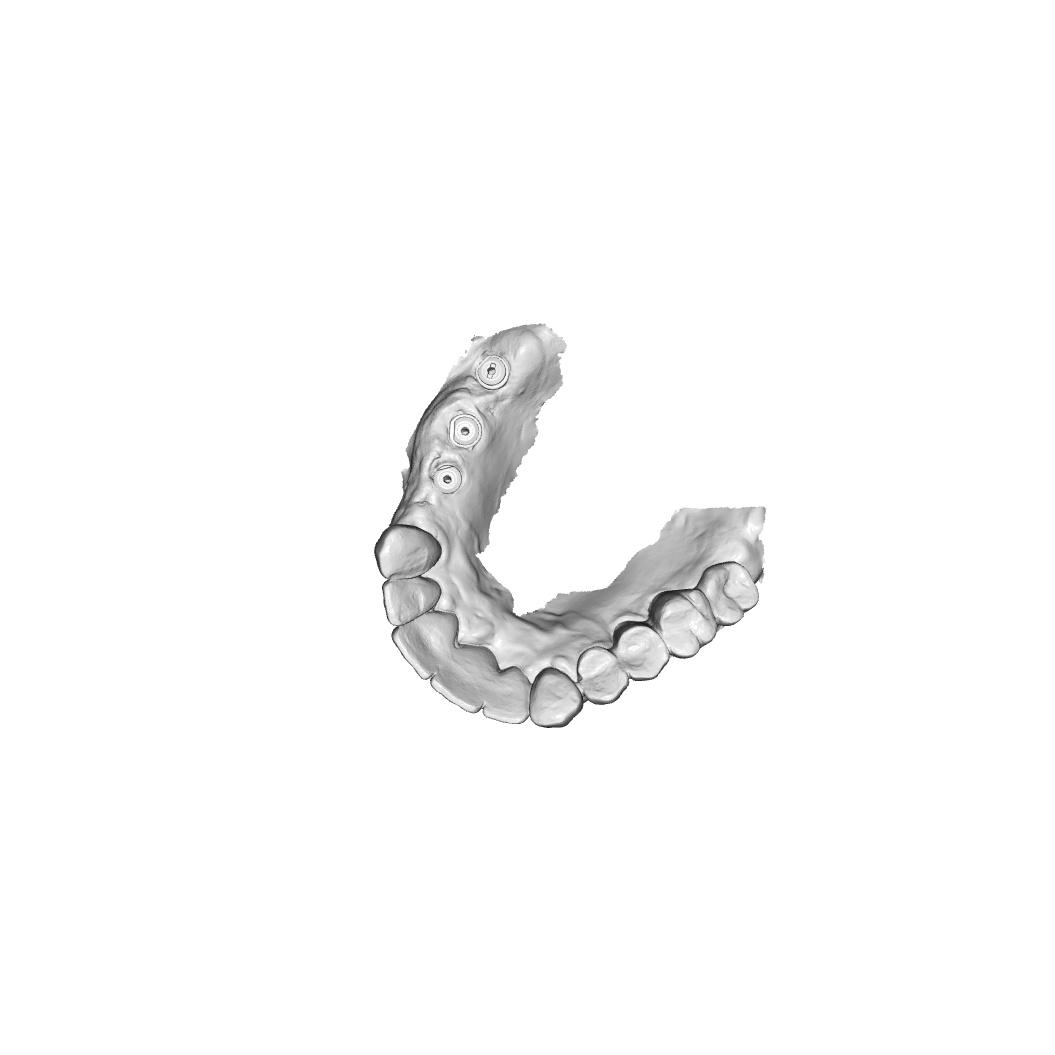canine: (373, 522, 444, 581), (528, 665, 585, 729)
implant: (448, 413, 483, 449), (432, 463, 463, 495)
implant_minus: (473, 353, 512, 391)
incisor: (389, 615, 444, 682), (428, 660, 487, 715), (381, 575, 442, 628), (481, 664, 532, 725)
molar: (649, 587, 718, 660), (697, 560, 760, 627)
premolar: (610, 620, 671, 682), (575, 645, 630, 707)
